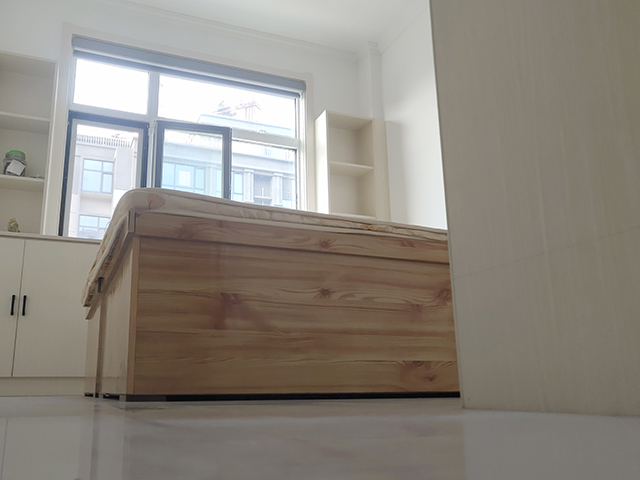bed: (80, 186, 460, 405)
cabinet: (428, 1, 640, 419), (1, 231, 104, 398)
